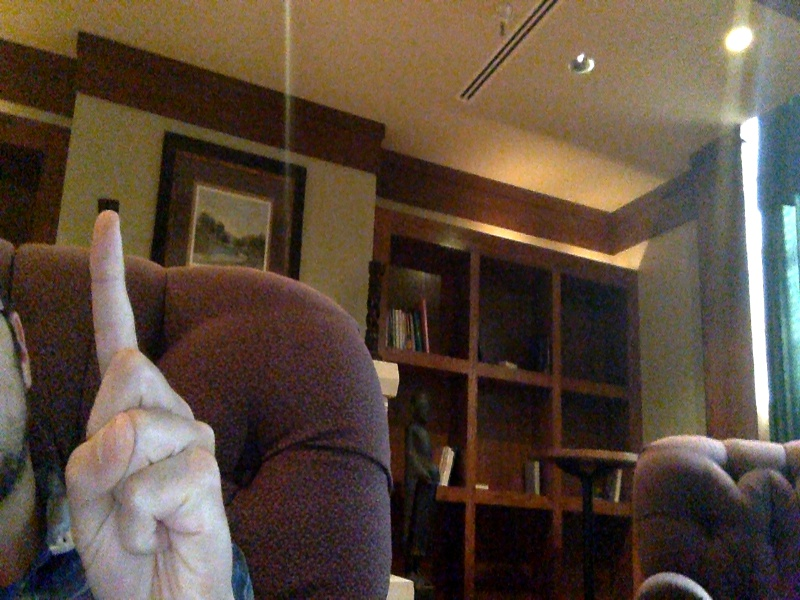1-hand: (68, 208, 231, 600)
